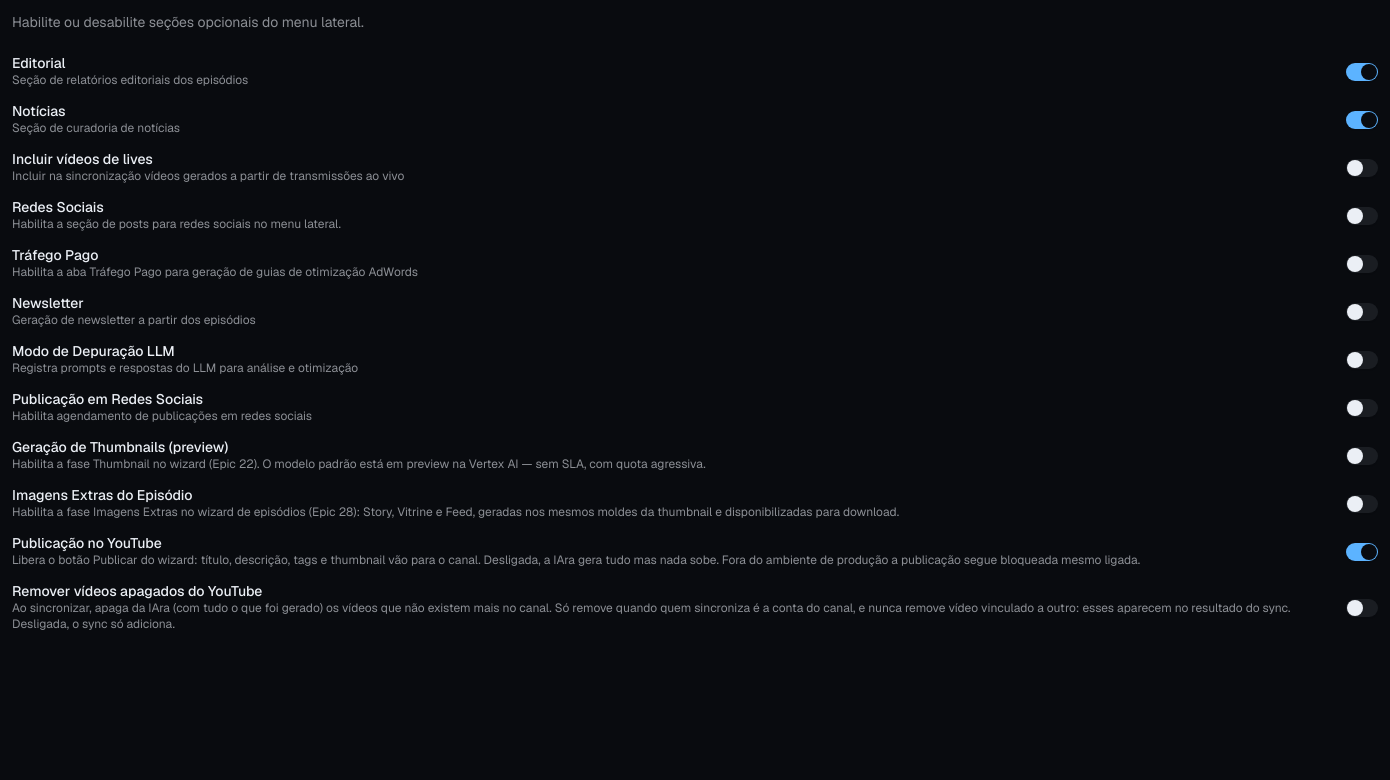
Scenario: FeaturesSettingsForm › reverts adwords toggle on API error
Click the 5th switch named "Tráfego Pago" at (1362, 264), box [1346, 255, 1378, 273]
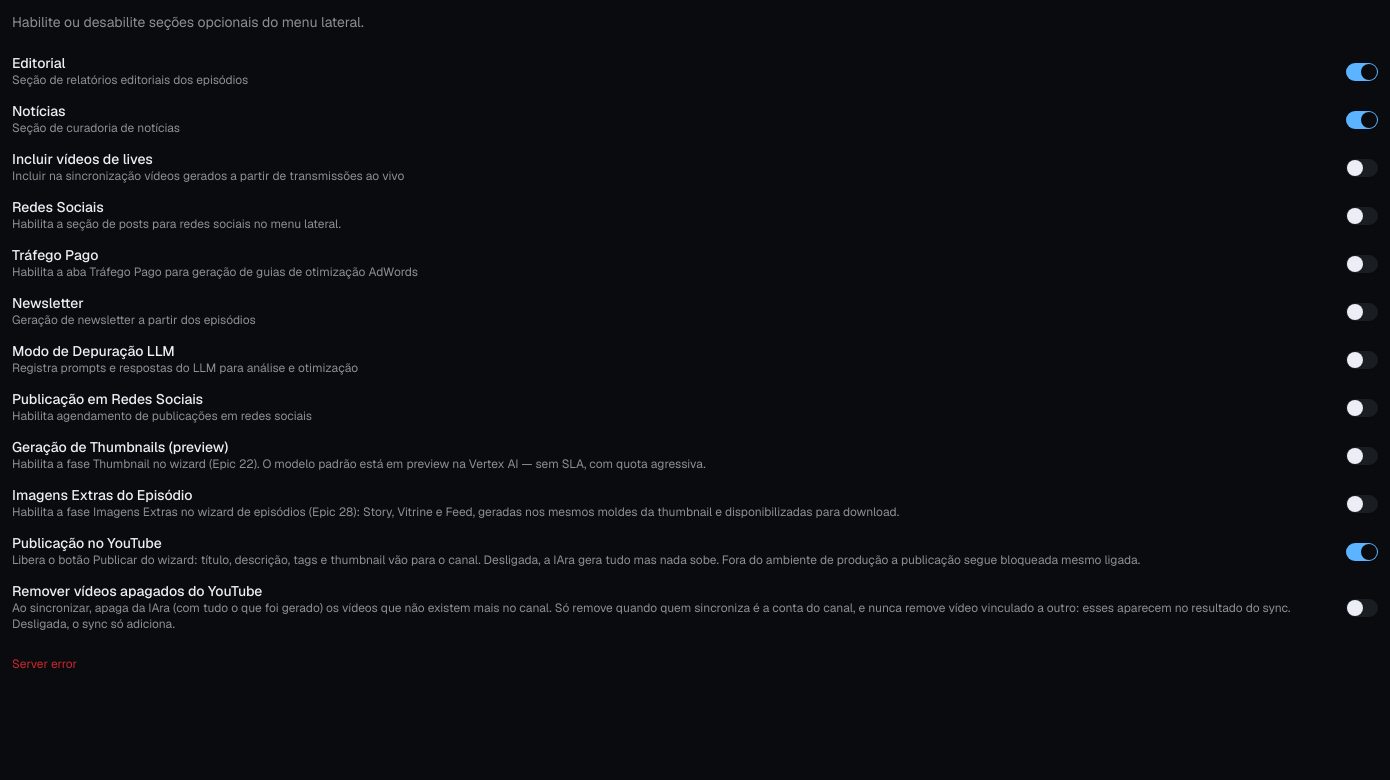
Expected: the text "Server error" is shown, [12, 656, 77, 672]
